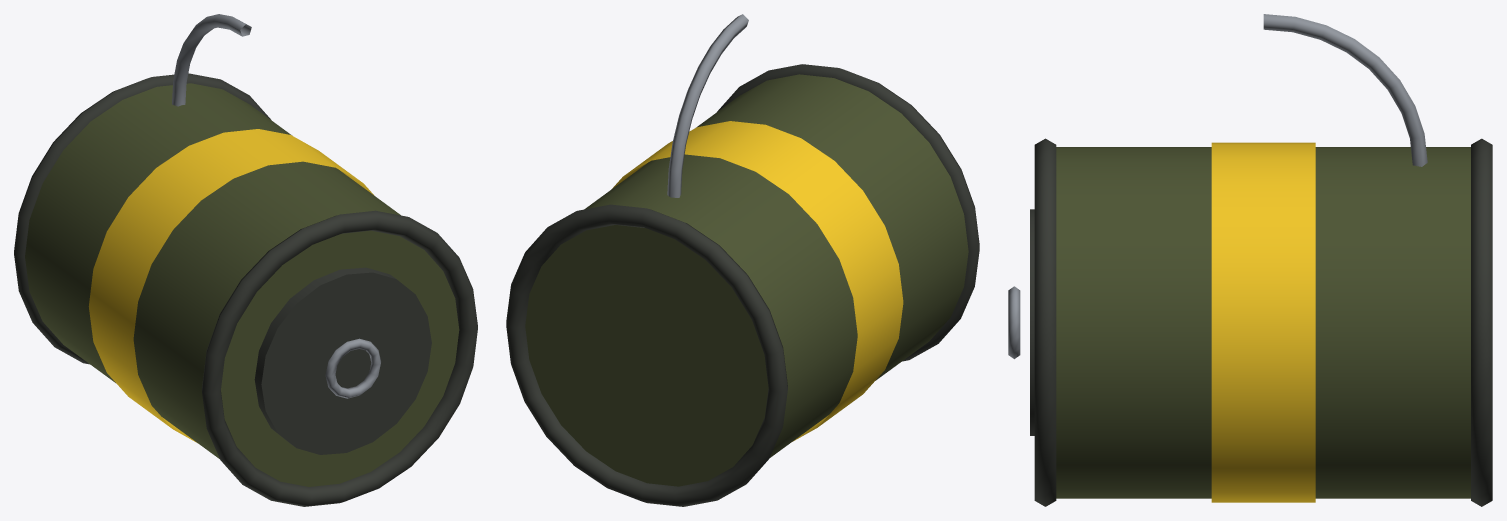
File: smoke_pot.obj
3 renders of one model, left to right at view 1: azimuth 30°, elevation 25°; view 2: azimuth 150°, elevation 25°; view 3: azimuth 270°, elevation 25°, orthographic. The views are drawn at different scales.
Parts seen in each view (by area): view 1: smoke_pot; view 2: smoke_pot; view 3: smoke_pot.
Boxes of the visible parts, <box> form: smoke_pot: <box>14,14,477,506</box>; smoke_pot: <box>506,14,979,506</box>; smoke_pot: <box>1008,14,1492,506</box>.
Size of the model in its own units: 0.356 by 0.506 by 0.4661.
